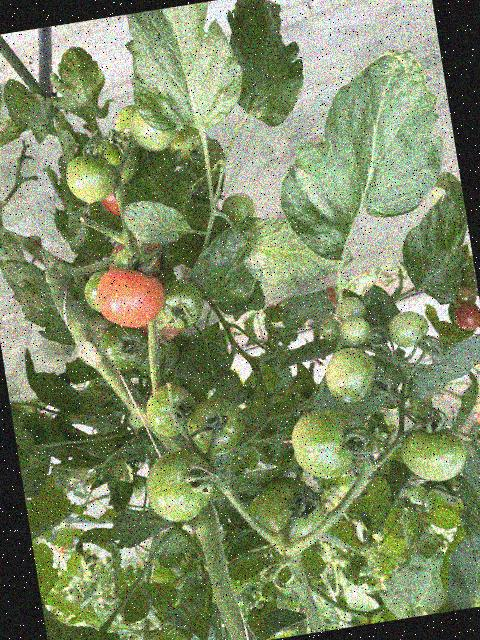l_fully_ripened: (92, 261, 170, 333), (452, 302, 480, 333)
l_green: (141, 444, 220, 527), (251, 472, 328, 548), (287, 404, 360, 484), (397, 420, 470, 487), (182, 393, 248, 459), (321, 342, 381, 406), (142, 379, 200, 440), (97, 319, 156, 373), (153, 275, 207, 333), (64, 151, 119, 206), (90, 137, 142, 189), (128, 103, 179, 155), (133, 333, 183, 382), (384, 308, 432, 350), (166, 123, 212, 165), (112, 104, 145, 153), (81, 269, 115, 314), (110, 242, 151, 277), (220, 189, 258, 226), (340, 314, 373, 348), (334, 295, 368, 322), (317, 312, 341, 342), (450, 284, 478, 308)
l_half_ripened: (140, 312, 184, 342)
